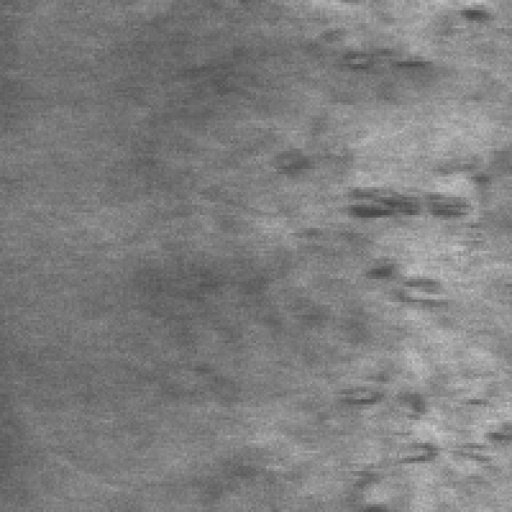rolled_in_scale: (287, 132, 510, 507), (276, 2, 505, 129)
